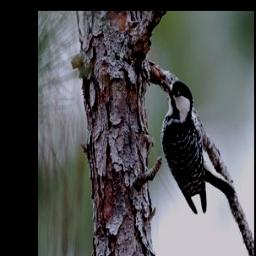Woodpecker: (157, 75, 235, 214)
